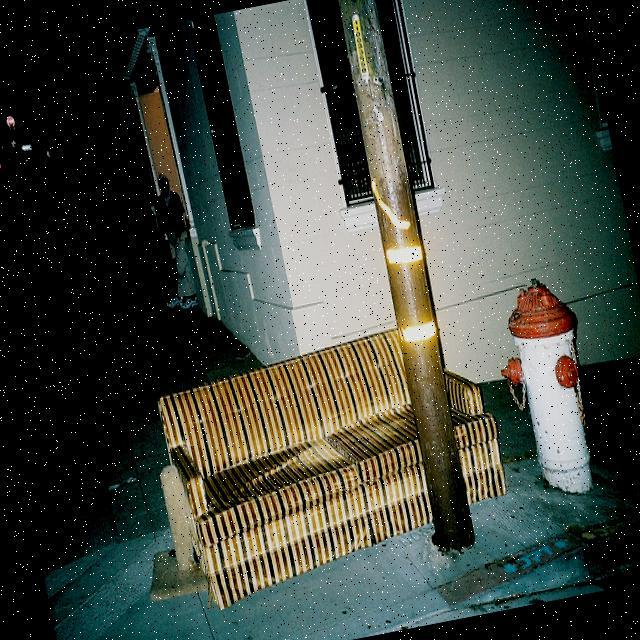fire_hydrant: (483, 269, 610, 503)
